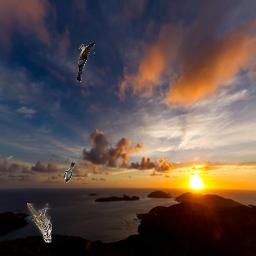Sparrow: (27, 203, 52, 243)
Swallow: (76, 42, 95, 82), (64, 162, 75, 183)
